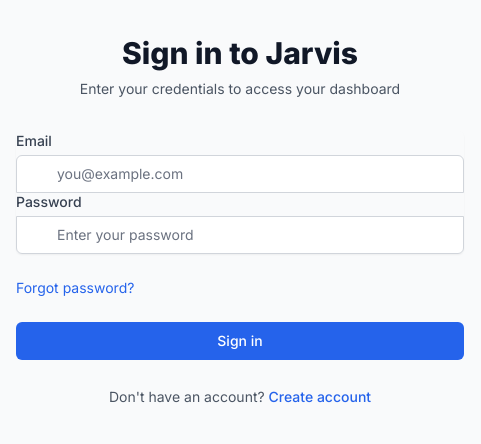
Test case: LoginPage › displays validation error for short password
The width and height of the screenshot is (481, 444).
In the password field labelled "Password": (240, 234) [16,216,464,254], type "123"
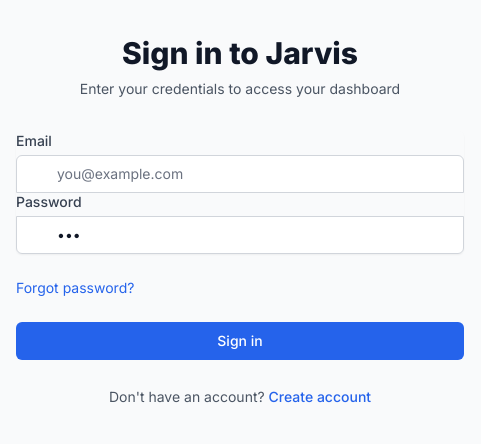
Click the button "Sign in": (240, 340) [16,322,464,360]
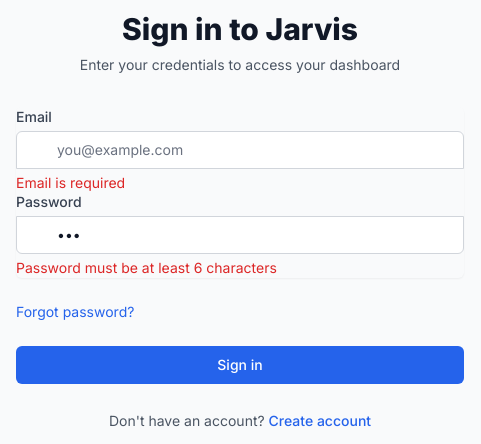
Result: the text "Password must be at least 6 characters" is shown at [16,258,277,276]
